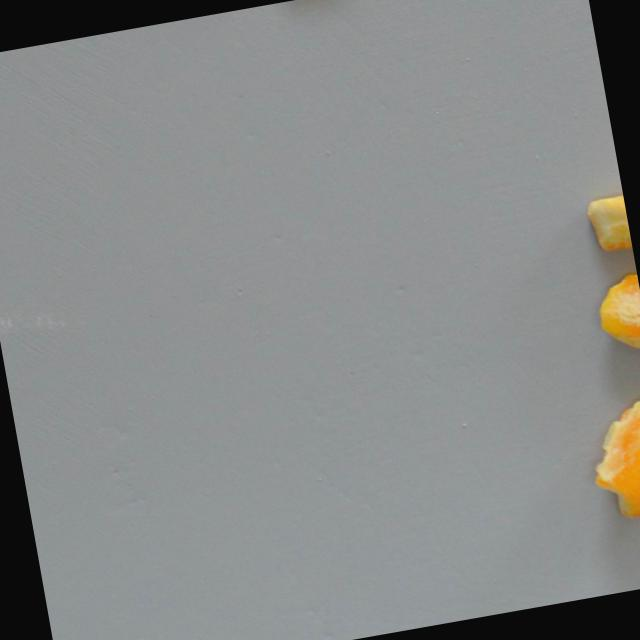pelicula: (580, 389, 640, 525), (592, 271, 640, 380), (579, 194, 633, 258)
